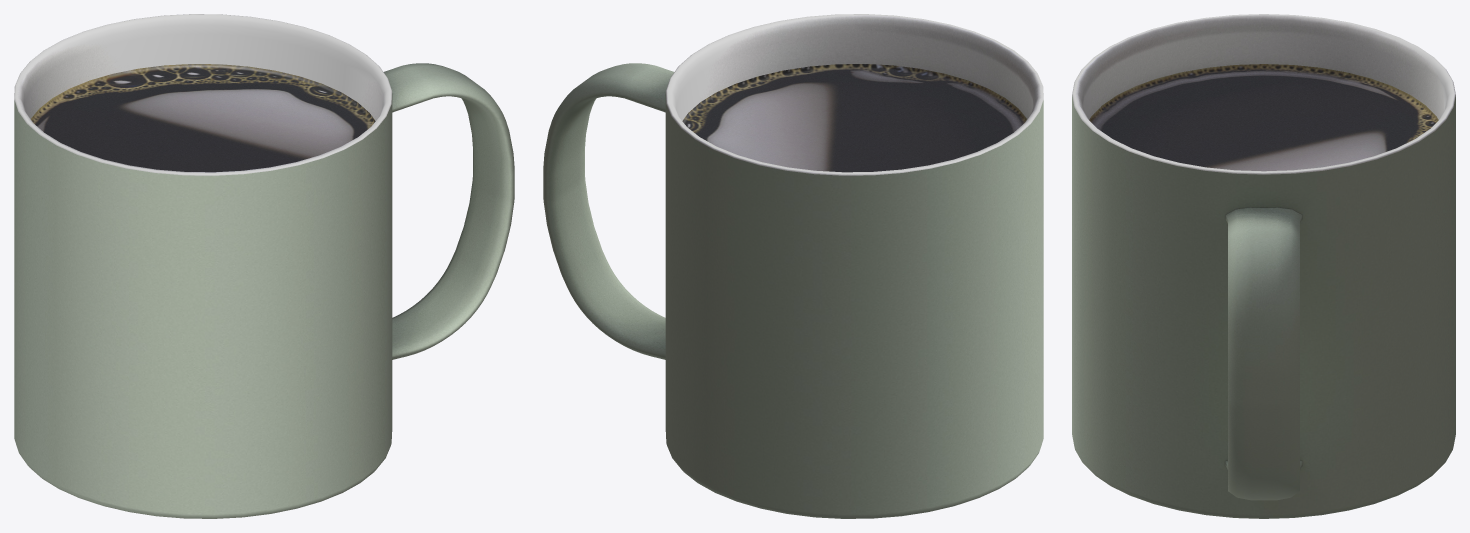
3 views of the same model, side by side, from view 1: azimuth 30°, elevation 25°; view 2: azimuth 150°, elevation 25°; view 3: azimuth 270°, elevation 25° (orthographic).
Visible parts, largest first — view 1: coffee1_lambert3_0; view 2: coffee1_lambert3_0; view 3: coffee1_lambert3_0.
Boxes of the visible parts, left/top/right/bottom form: coffee1_lambert3_0: left=14, top=14, right=514, bottom=518; coffee1_lambert3_0: left=543, top=14, right=1043, bottom=518; coffee1_lambert3_0: left=1072, top=14, right=1455, bottom=518.
Size of the model in its own units: 0.14 by 0.1 by 0.1.
1 material, 1 textured.
